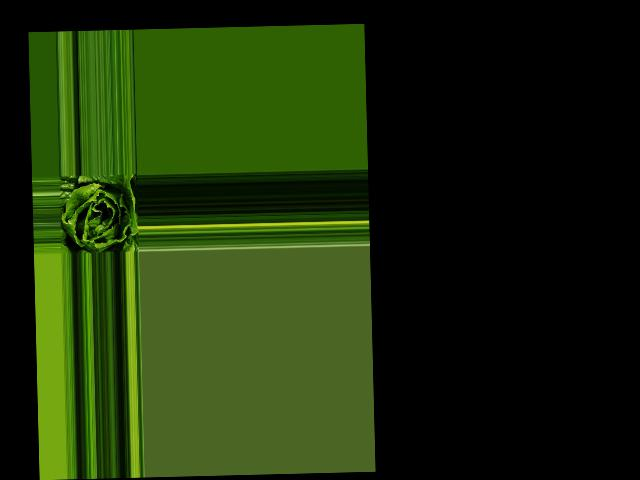lettuce: (60, 173, 138, 252)
